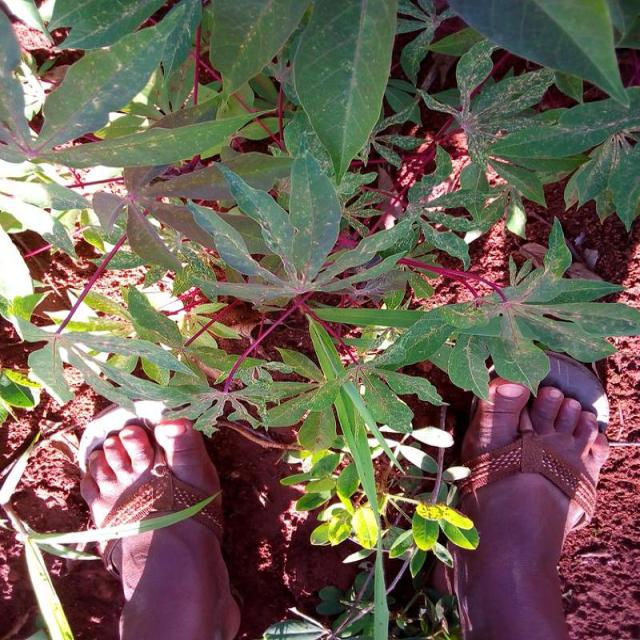cassava leaf: (2, 1, 640, 636), (34, 0, 203, 155), (287, 0, 400, 187)
